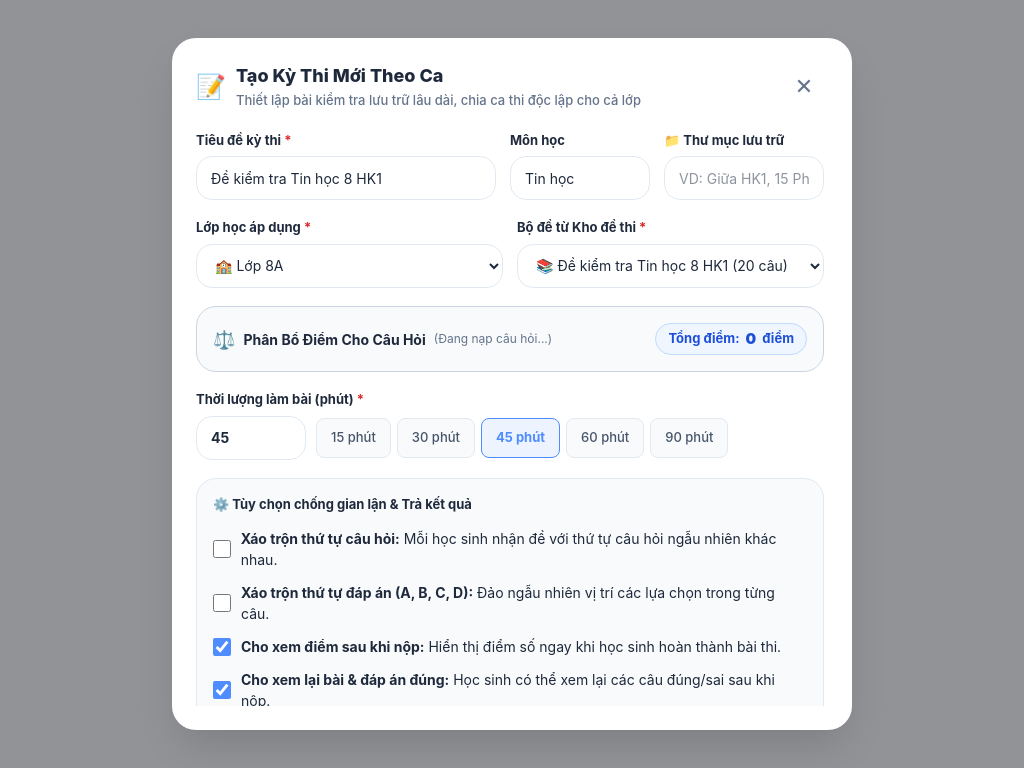
CreateExamModal Component › cho phép chọn nhanh thời lượng làm bài qua các nút preset
The width and height of the screenshot is (1024, 768).
# Bấm nút preset 15 phút
Click the button "15 phút". click: (353, 438)
box: 316,418 -> 391,458
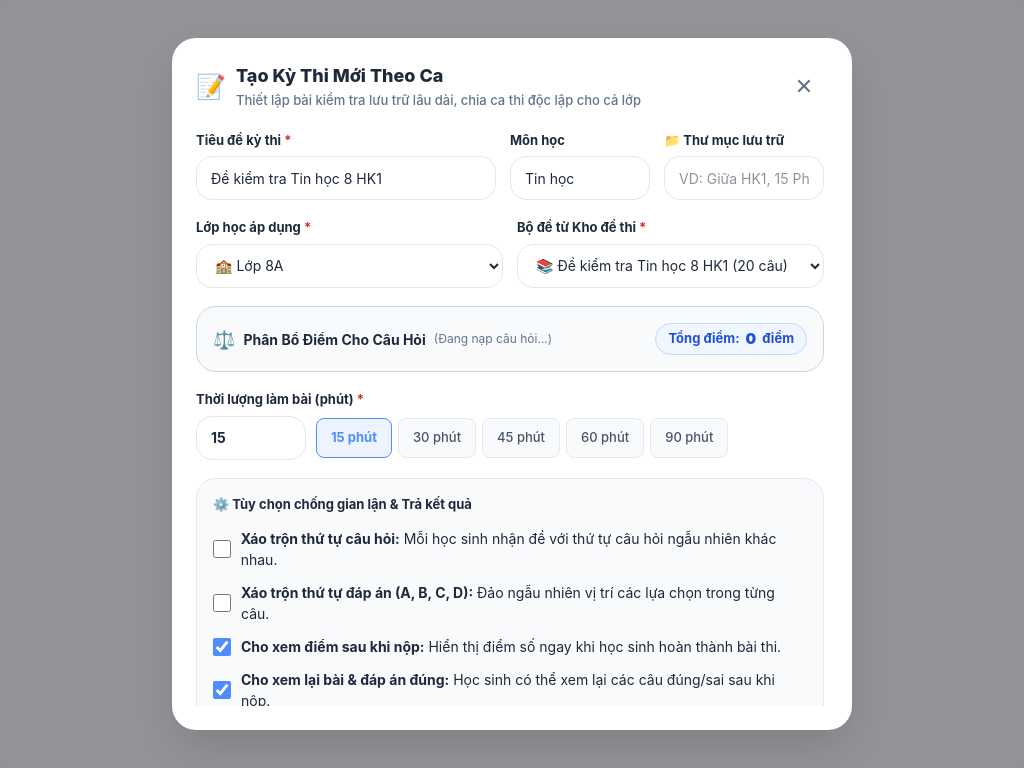
Expected: the number field showing "15" is shown, 196,416 -> 306,460
# Bấm nút preset 60 phút
Click the button "60 phút". click: (605, 438)
box: 566,418 -> 644,458
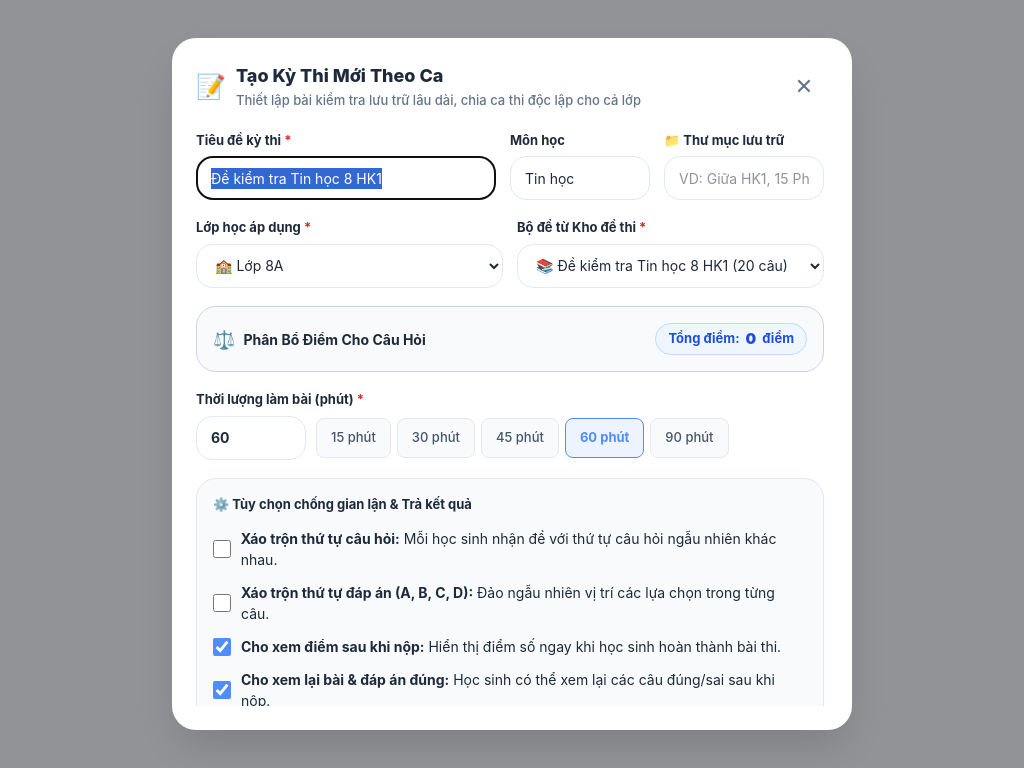
Expected: the number field showing "60" is shown, 196,416 -> 306,460
